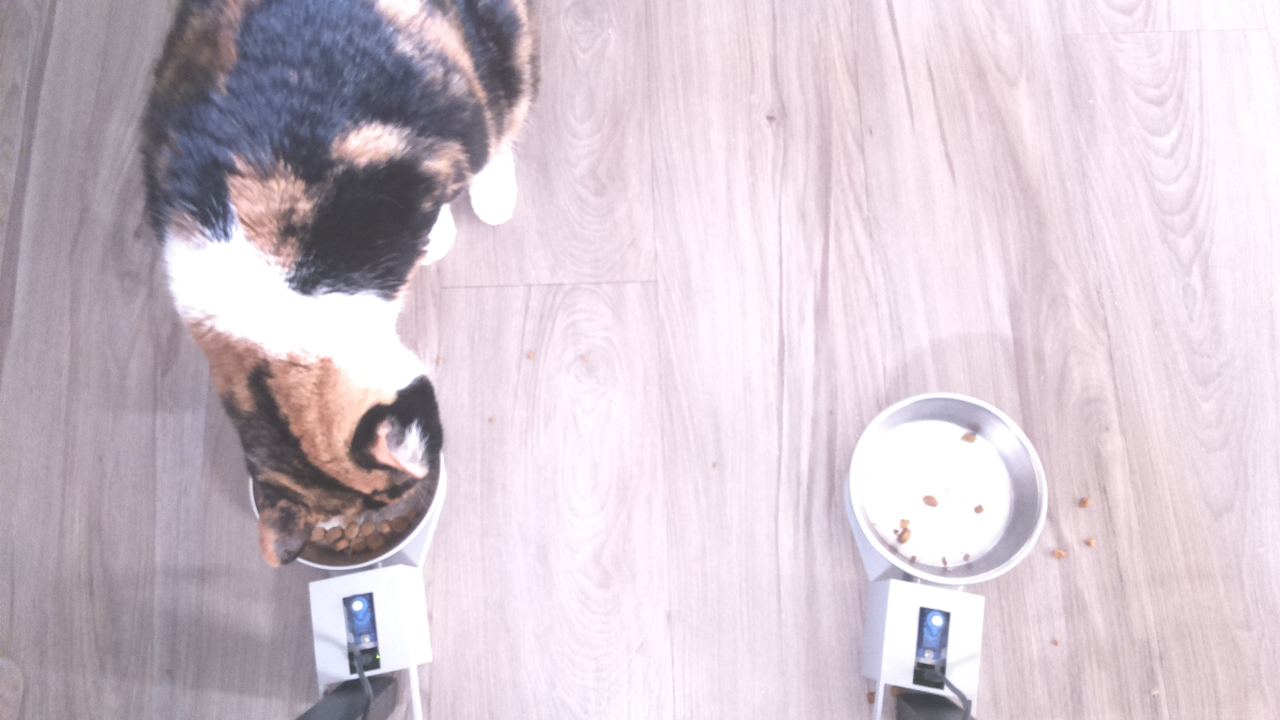bella_eating: (152, 266, 482, 583)
open_bowl: (845, 387, 1051, 590)
